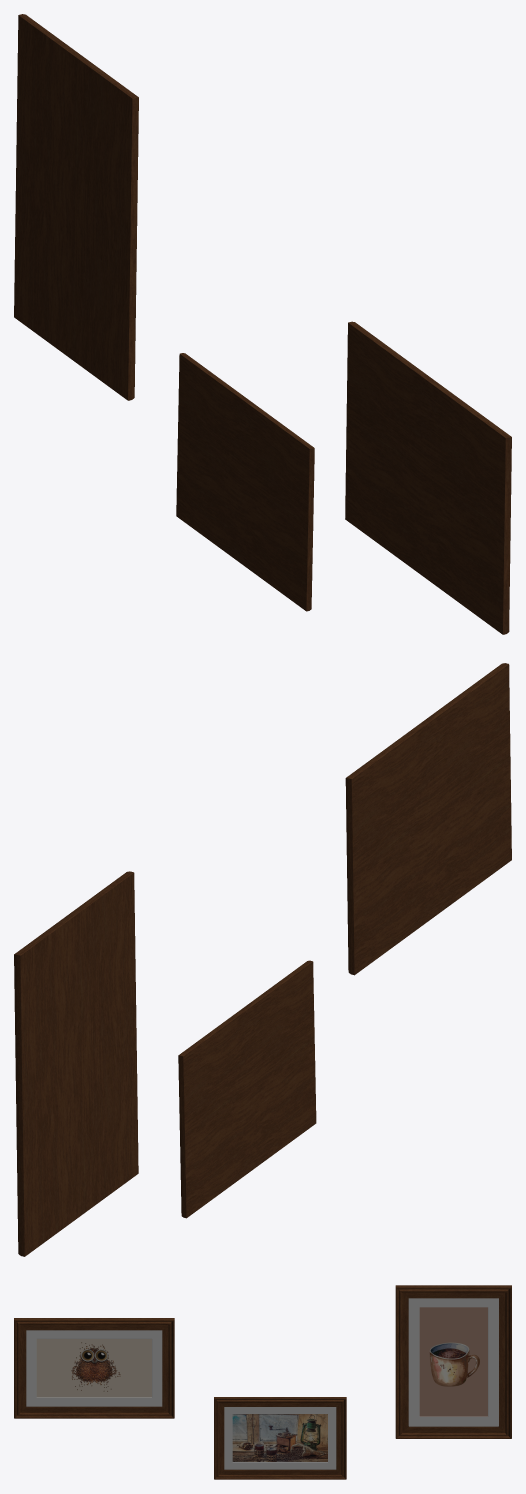
The model's file is wall_pictures.glb.
The picture shows the model from 3 angles, top to bottom: view 1: azimuth 30°, elevation 25°; view 2: azimuth 150°, elevation 25°; view 3: azimuth 270°, elevation 25°; orthographic projection. The views are drawn at different scales.
Parts seen in each view (by area): view 1: wall_picture_2, wall_picture_3, wall_picture_1; view 2: wall_picture_2, wall_picture_3, wall_picture_1; view 3: wall_picture_2, wall_picture_3, wall_picture_1.
Boxes of the visible parts, x1,y1,x2,y2 form: wall_picture_2: (14,14,138,400); wall_picture_3: (345,321,511,634); wall_picture_1: (176,353,314,611); wall_picture_2: (14,871,138,1256); wall_picture_3: (345,663,511,975); wall_picture_1: (178,960,316,1218); wall_picture_2: (395,1285,511,1438); wall_picture_3: (14,1318,174,1418); wall_picture_1: (214,1397,346,1479).
Size of the model in its own units: 0.0259 by 0.7888 by 1.83.
3 materials, 3 textured.
